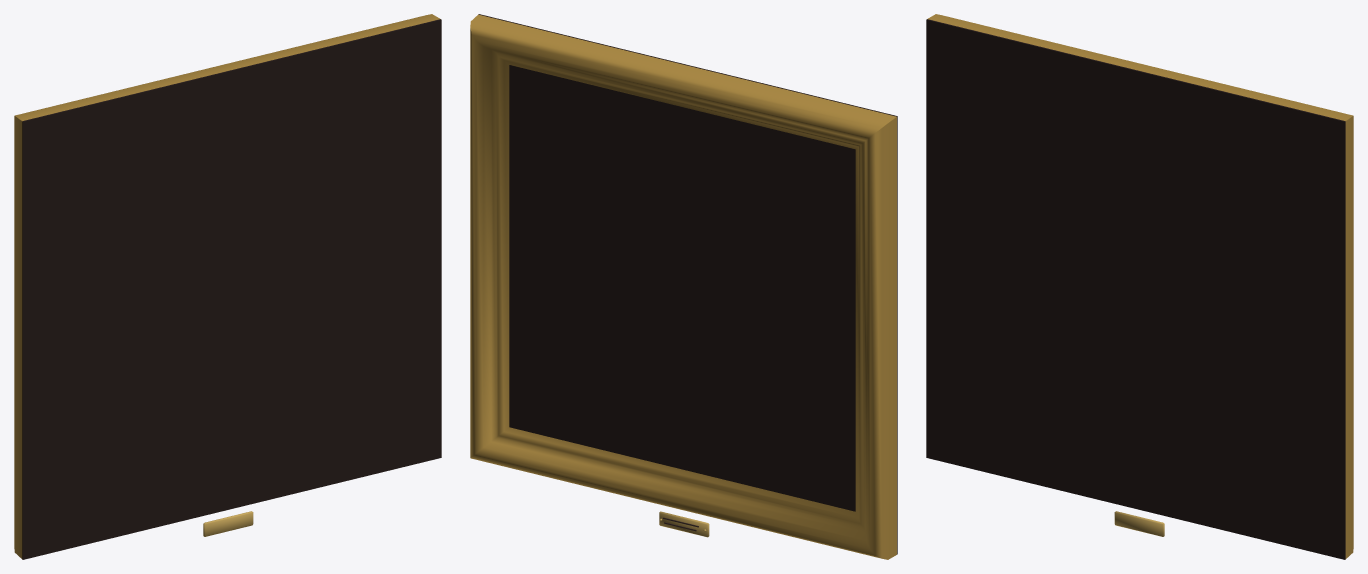
The model's file is gilt_simple_square.glb.
3 views of the same model, side by side, from view 1: azimuth 30°, elevation 25°; view 2: azimuth 150°, elevation 25°; view 3: azimuth 330°, elevation 25° (orthographic).
Parts seen in each view (by area): view 1: gilt_simple_square; view 2: gilt_simple_square; view 3: gilt_simple_square.
Boxes of the visible parts, box(x1,y1,x2,y2) form: gilt_simple_square: box(14, 14, 441, 559); gilt_simple_square: box(470, 14, 897, 559); gilt_simple_square: box(926, 14, 1353, 559).
Size of what is drawn, in the model's own units: 1.18 by 1.25 by 0.074.
